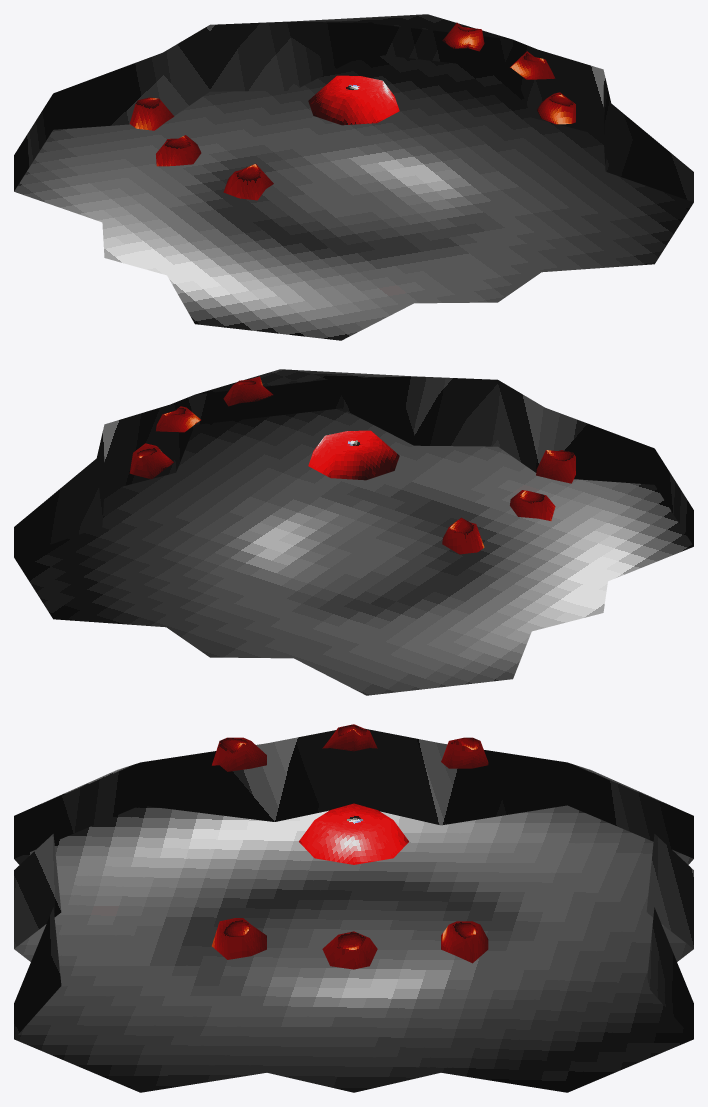
File: gun.glb
3 renders of one model, top to bottom at view 1: azimuth 30°, elevation 25°; view 2: azimuth 150°, elevation 25°; view 3: azimuth 270°, elevation 25°, orthographic. The views are drawn at different scales.
Parts seen in each view (by area): view 1: m1, m2, m0; view 2: m1, m2, m0; view 3: m1, m2, m0.
Part boxes in pixels (x1=…): m1: x1=14, y1=14, x2=693, y2=340; m2: x1=129, y1=22, x2=575, y2=200; m0: x1=308, y1=75, x2=399, y2=125; m1: x1=14, y1=369, x2=693, y2=695; m2: x1=129, y1=376, x2=575, y2=554; m0: x1=308, y1=430, x2=399, y2=480; m1: x1=14, y1=728, x2=693, y2=1092; m2: x1=212, y1=724, x2=488, y2=969; m0: x1=299, y1=803, x2=408, y2=864.
Size of the model in its own units: 86 by 18 by 86.
Materials: 3 (3 with a texture image).
